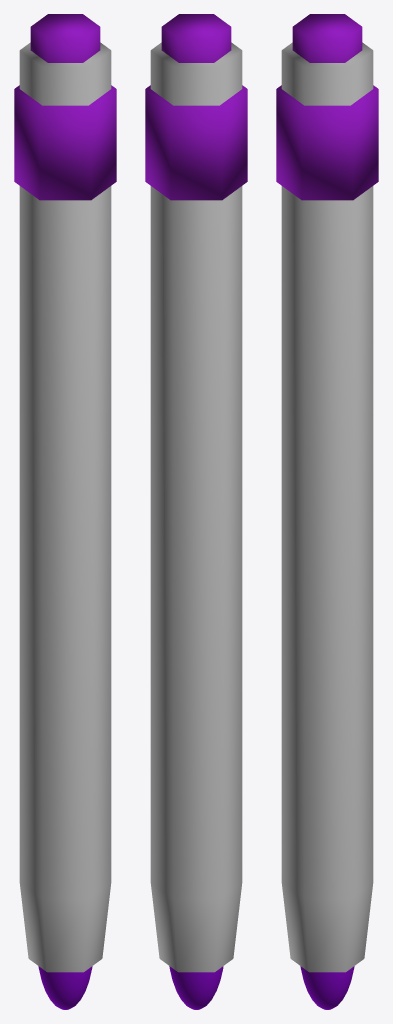
The model's file is Marker.fbx.
The picture shows the model from 3 angles, left to right: view 1: azimuth 90°, elevation 25°; view 2: azimuth 150°, elevation 25°; view 3: azimuth 270°, elevation 25°; orthographic projection.
Parts seen in each view (by area): view 1: Cylinder, Cylinder.001, Cylinder.002, Sphere; view 2: Cylinder, Cylinder.001, Cylinder.002, Sphere; view 3: Cylinder, Cylinder.001, Cylinder.002, Sphere.
Part boxes in pixels (x1,y1,x2,y2): Cylinder: [19, 42, 111, 972]; Cylinder.001: [14, 85, 116, 200]; Cylinder.002: [30, 14, 100, 62]; Sphere: [38, 966, 92, 1009]; Cylinder: [150, 42, 242, 972]; Cylinder.001: [145, 85, 247, 200]; Cylinder.002: [161, 14, 231, 62]; Sphere: [169, 966, 223, 1009]; Cylinder: [281, 42, 373, 972]; Cylinder.001: [276, 85, 378, 200]; Cylinder.002: [292, 14, 362, 62]; Sphere: [300, 966, 354, 1009].
Size of the model in its own units: 19.32 by 236 by 22.3.
